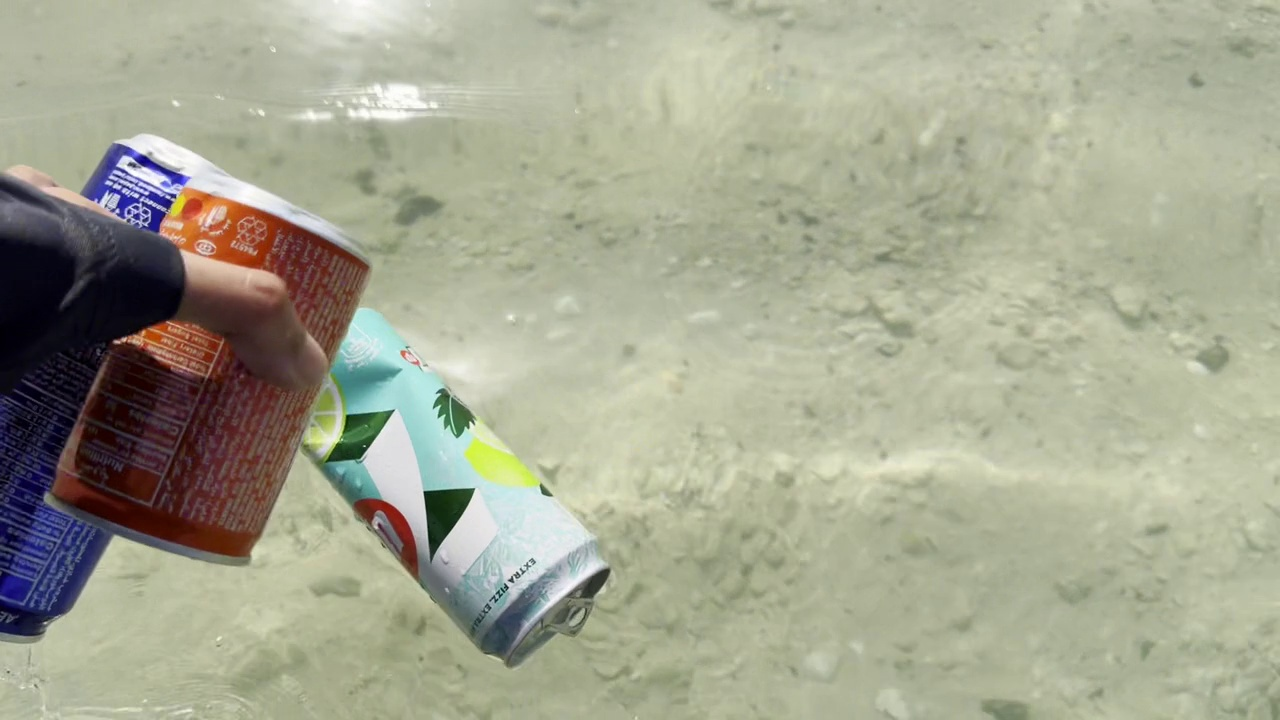debris: (257, 269, 630, 673), (47, 179, 397, 570), (1, 112, 233, 656)
